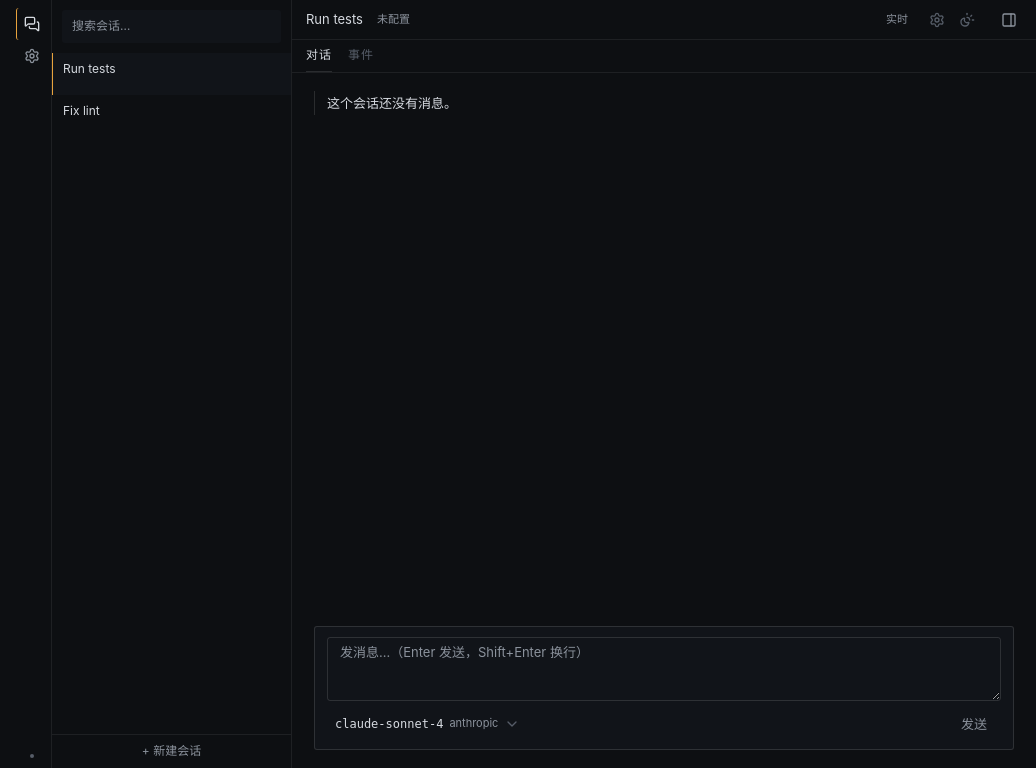
AppFrame timeline and composer › cancel after admission surfaces the cancelling status
The image size is (1036, 768).
Type "Run tests" into the text box named "消息输入".
click(664, 669); type("Run tests")  # box [327,637,1001,701]
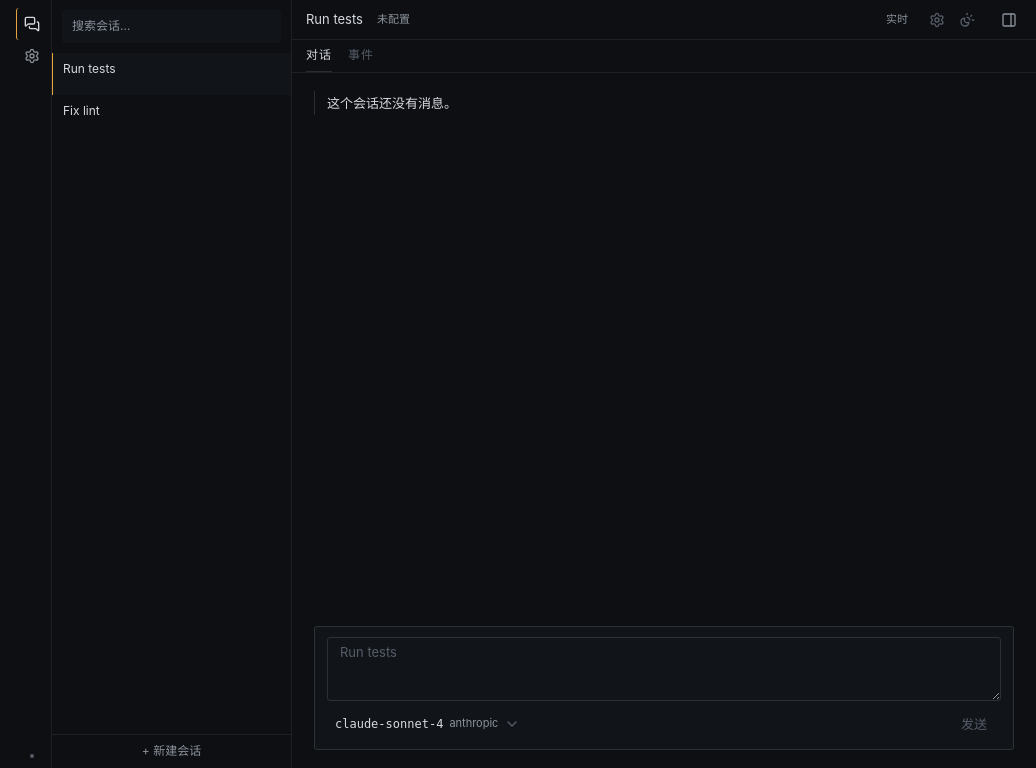
Click the button "发送".
click(974, 724)  # box [947,709,1001,739]
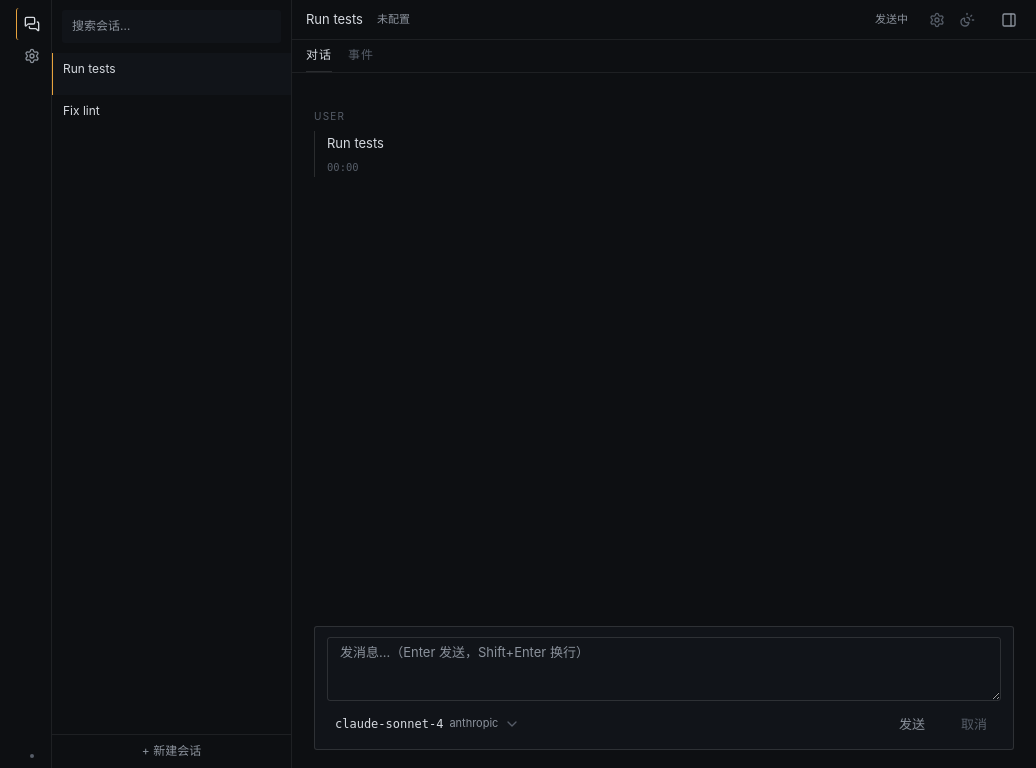
Click the button "取消".
click(974, 724)  # box [947,709,1001,739]
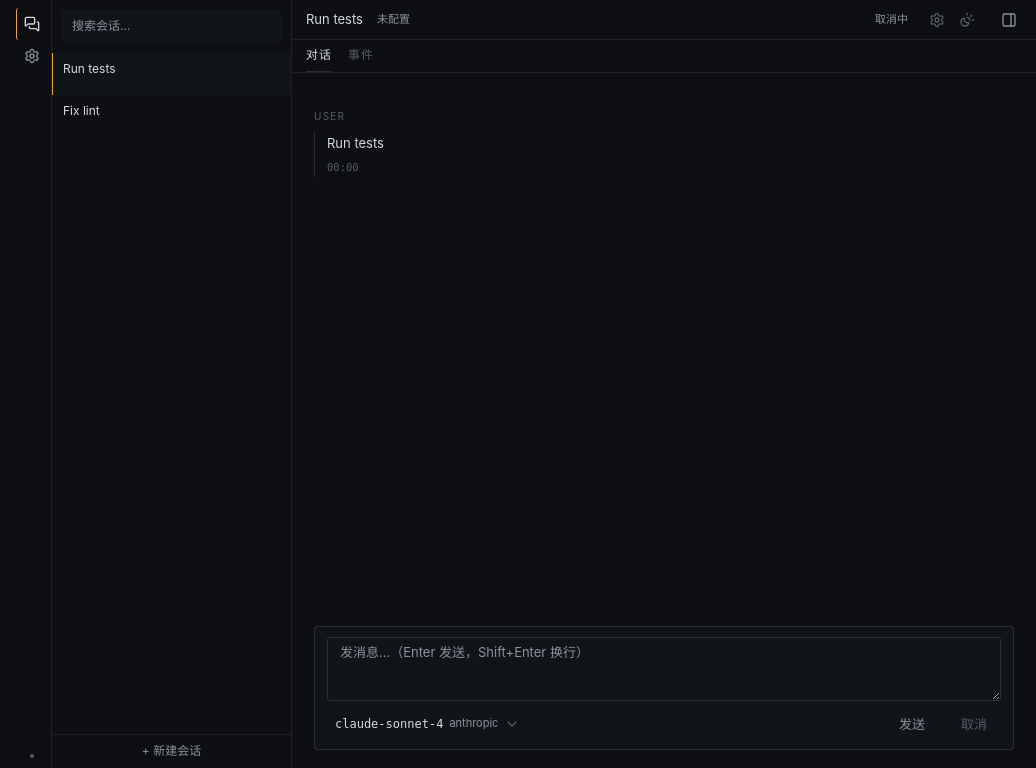
Now the header with class "sessionbar" shows "取消中", box [875,13,908,26]
